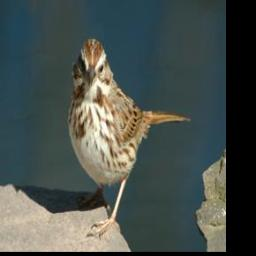Sparrow: (66, 37, 192, 236)
